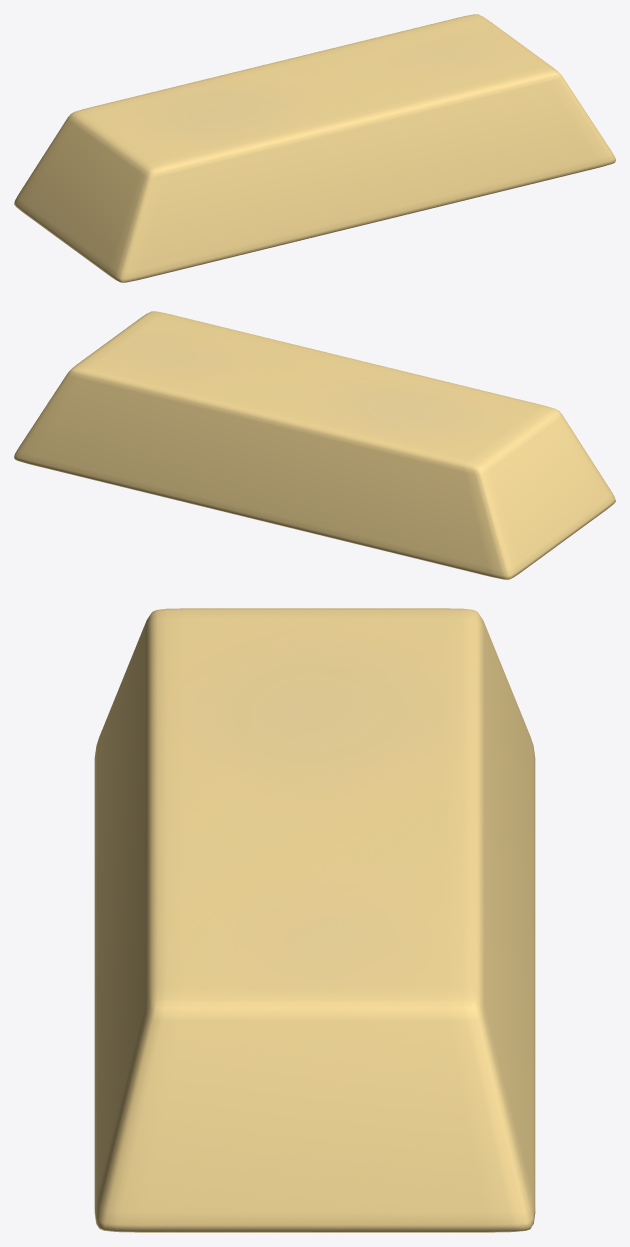
Rendered from GoldBar.fbx.
3 views of the same model, one above another, from view 1: azimuth 30°, elevation 25°; view 2: azimuth 150°, elevation 25°; view 3: azimuth 270°, elevation 25° (orthographic). The views are drawn at different scales.
Visible parts, largest first — view 1: Cube; view 2: Cube; view 3: Cube.
Part boxes in pixels (x1=…): Cube: x1=14, y1=14, x2=615, y2=282; Cube: x1=14, y1=311, x2=615, y2=579; Cube: x1=94, y1=608, x2=535, y2=1232.
Bounding box in the file's own units: 512 × 92.76 × 196.
